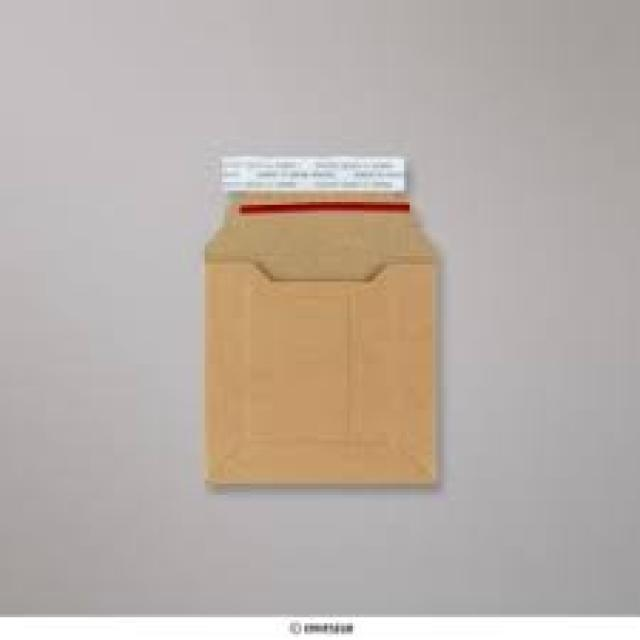cardboard: (205, 194, 435, 483)
